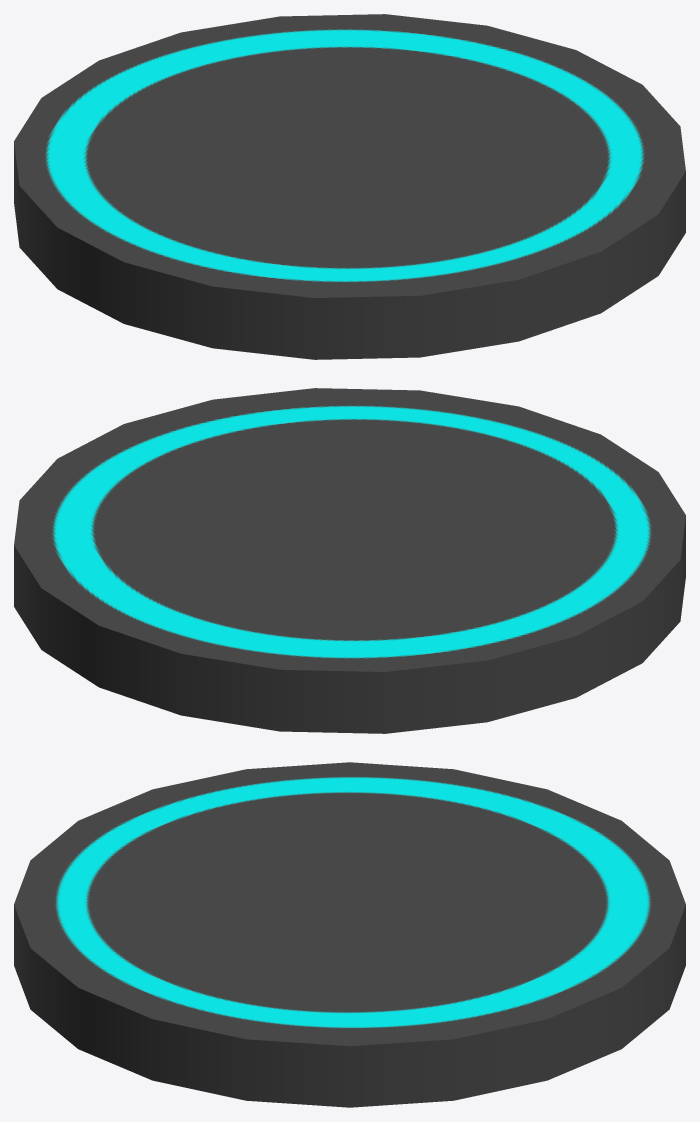
File: handle_top_902.fbx
3 renders of one model, top to bottom at view 1: azimuth 30°, elevation 25°; view 2: azimuth 150°, elevation 25°; view 3: azimuth 270°, elevation 25°, orthographic.
Parts seen in each view (by area): view 1: handle_top_902; view 2: handle_top_902; view 3: handle_top_902.
Part boxes in pixels (x1,y1,x2,y2): handle_top_902: (14, 14, 685, 359); handle_top_902: (14, 388, 685, 733); handle_top_902: (14, 762, 685, 1107).
Bounding box in the file's own units: 2.72 × 0.2748 × 2.72.
